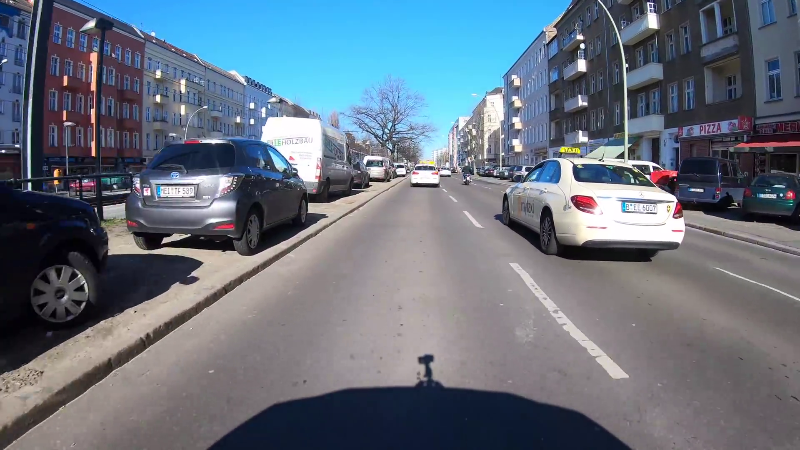Plate: (155, 184, 195, 197), (621, 201, 656, 213), (756, 192, 777, 199)
